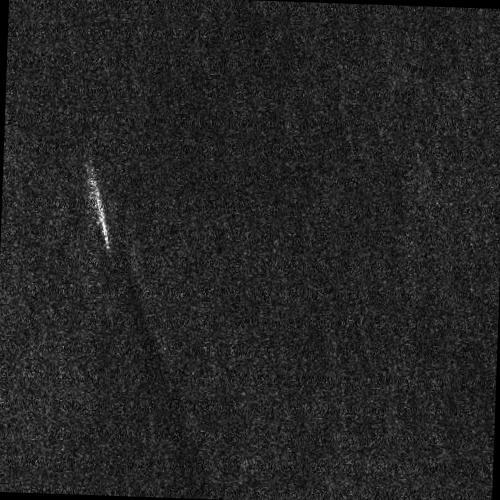ship: (94, 184, 110, 249)
